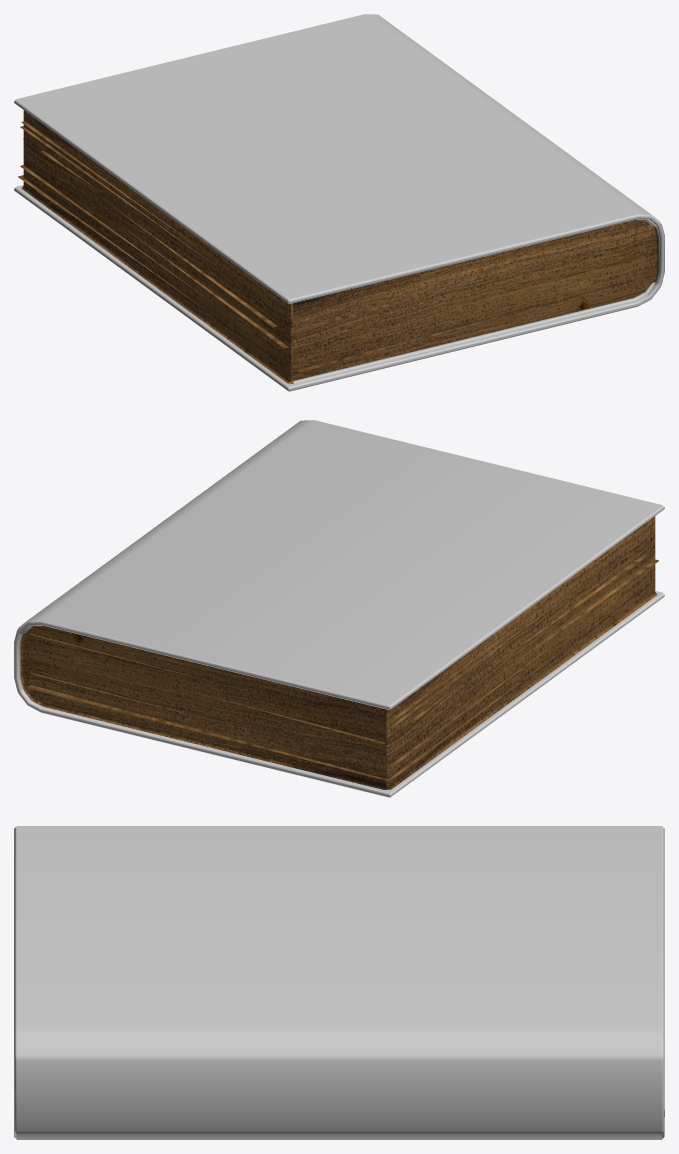
Rendered from ina_Book.obj.
3 renders of one model, top to bottom at view 1: azimuth 30°, elevation 25°; view 2: azimuth 150°, elevation 25°; view 3: azimuth 270°, elevation 25°, orthographic. The views are drawn at different scales.
Visible parts, largest first — view 1: Book_Books; view 2: Book_Books; view 3: Book_Books.
Part boxes in pixels (x1,y1,x2,y2): Book_Books: [14, 14, 664, 391]; Book_Books: [14, 420, 664, 797]; Book_Books: [14, 826, 664, 1139].
Size of what is drawn, in the model's own units: 1.58 by 0.3722 by 2.
